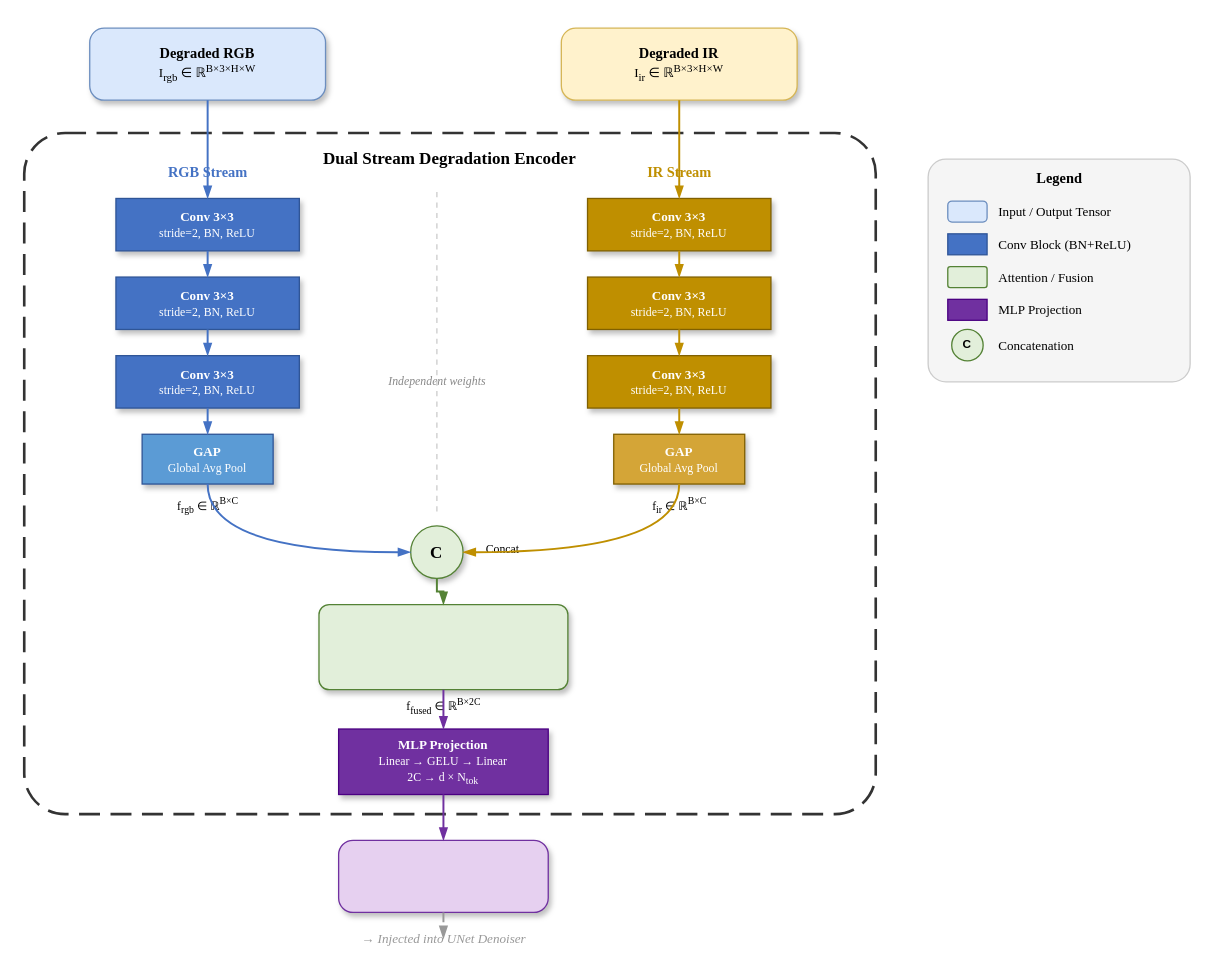
The diagram is 1213 pixels wide and 975 high, and some of its shapes have lost their labels. The centre of each missing label's shape, as x and y in pixels:
"Cross-Attention Multi-Head Attention Q: f rgb , K/V: f ir & Q: f ir , K/V: f rgb" goes at point 444,648.
"Task Tokens T ∈ ℝ B×N tok ×d (N tok =4, d=256)" goes at point 444,878.
